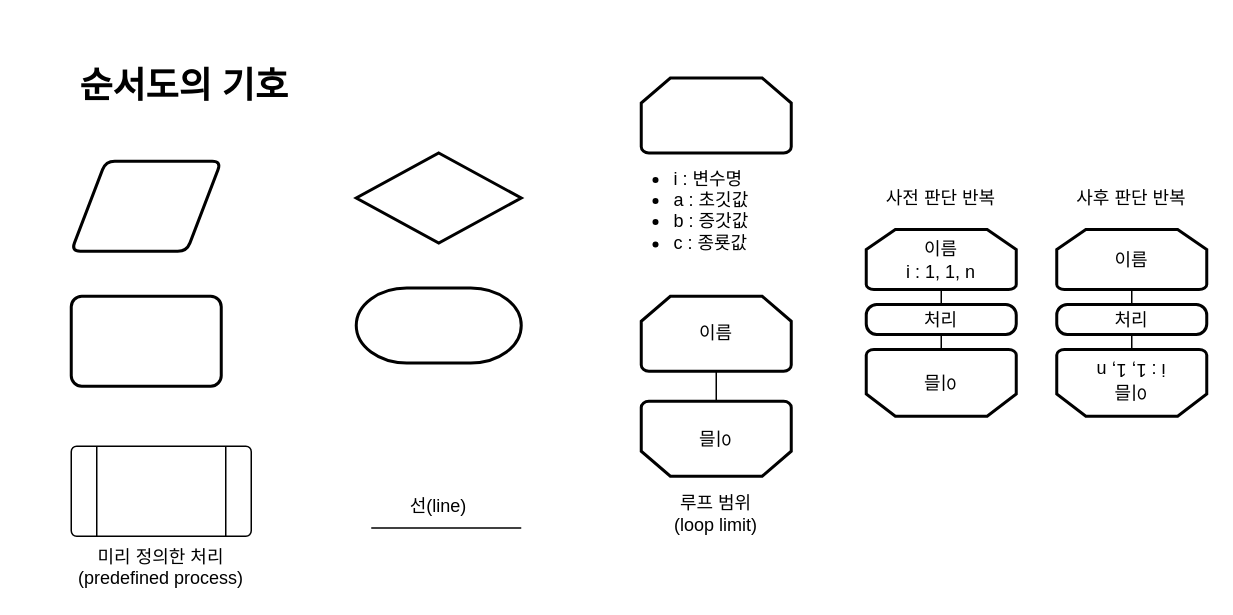
Some shapes in this 1233 by 615 pixel diagram are drawn without their labels. Here are the shapes that lost their labels. From the top down, the centre of each, then its label:
At point 715,115: "이름 i : a, b, c".
At point 145,205: "데이터 (data)".
At point 438,197: "판단 (decision)".
At point 145,340: "처리 (process)".
At point 438,325: "단말 (terminator)".
